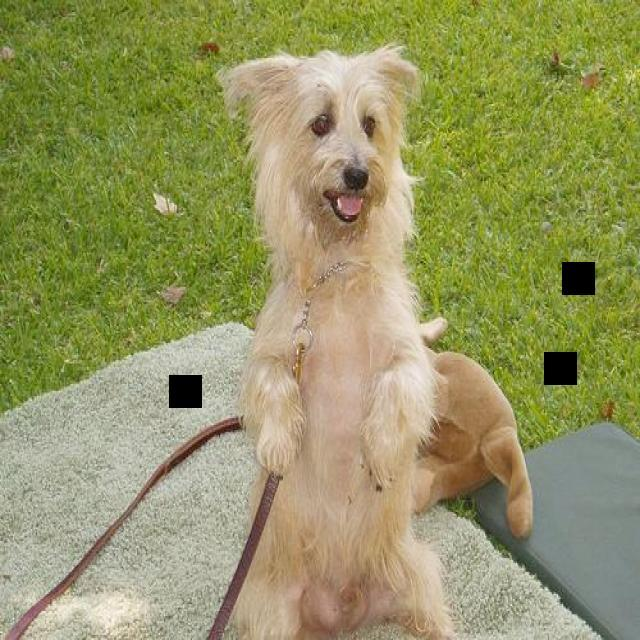adult_dog: (216, 39, 458, 636)
